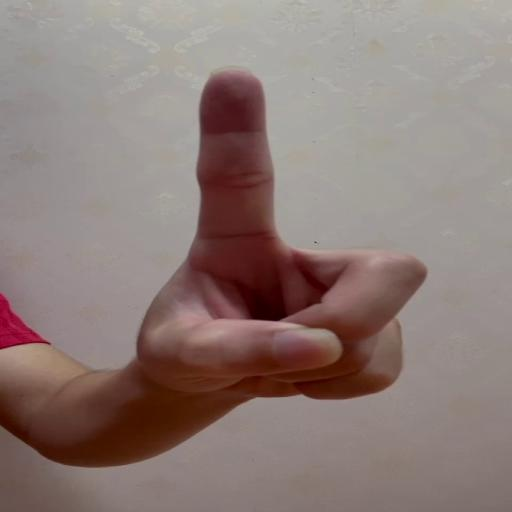point: (170, 65, 430, 401)
